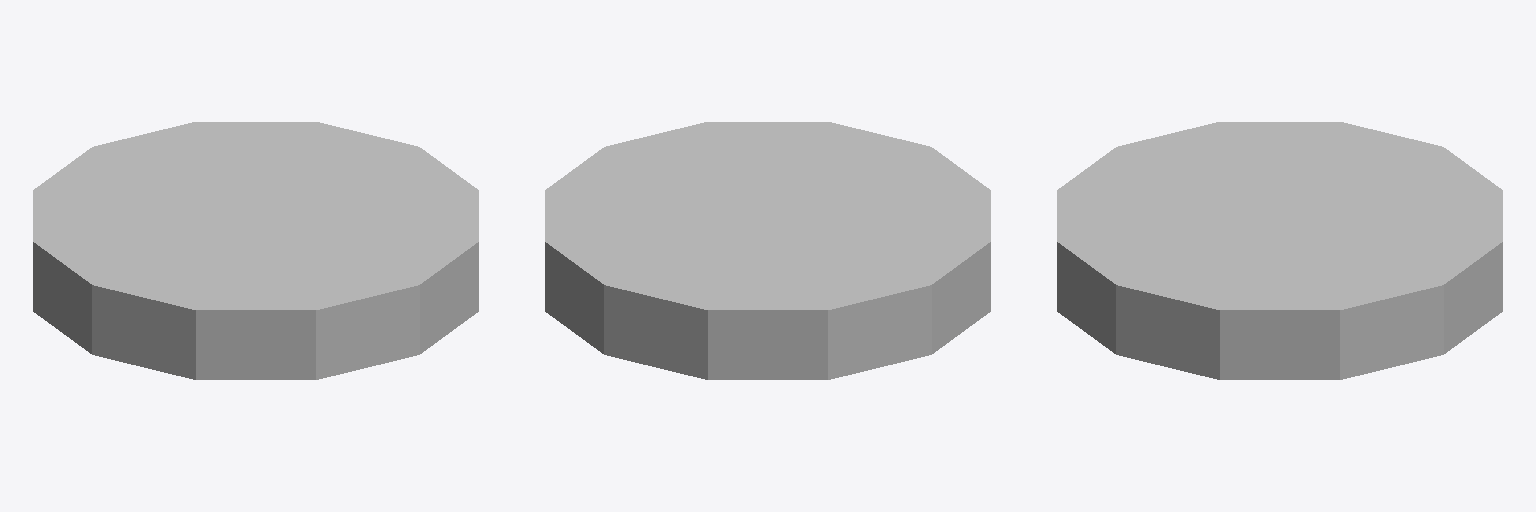
3 renders of one model, left to right at view 1: azimuth 30°, elevation 25°; view 2: azimuth 150°, elevation 25°; view 3: azimuth 270°, elevation 25°, orthographic.
Parts seen in each view (by area): view 1: Mesh9 Model; view 2: Mesh9 Model; view 3: Mesh9 Model.
Boxes of the visible parts, box(x1,y1,x2,y2) form: Mesh9 Model: box(33, 122, 478, 379); Mesh9 Model: box(545, 122, 990, 379); Mesh9 Model: box(1057, 122, 1502, 379).
Size of the model in its own units: 110 by 21.77 by 110.